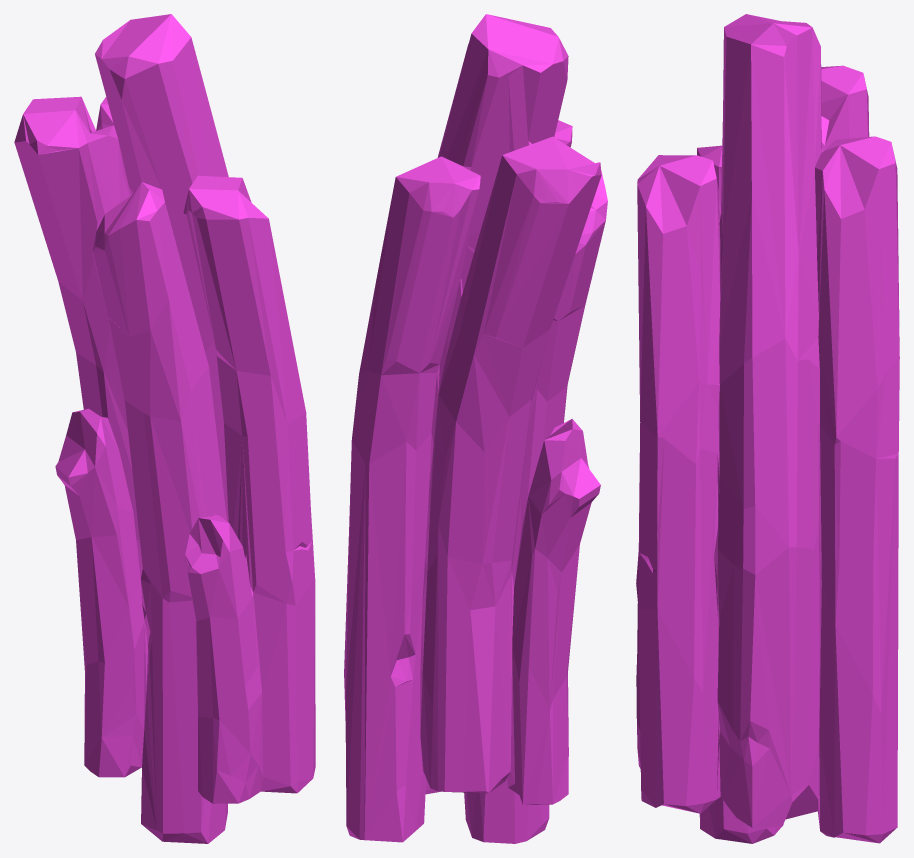
The model's file is SM_Rock_Bazalt_C_Fantasy.fbx.
The picture shows the model from 3 angles, left to right: view 1: azimuth 30°, elevation 25°; view 2: azimuth 150°, elevation 25°; view 3: azimuth 270°, elevation 25°; orthographic projection. The views are drawn at different scales.
Parts seen in each view (by area): view 1: SM_Rock_Bazalt_C_Fantasy; view 2: SM_Rock_Bazalt_C_Fantasy; view 3: SM_Rock_Bazalt_C_Fantasy.
Part boxes in pixels (<box>): SM_Rock_Bazalt_C_Fantasy: <box>14,14,315,843</box>; SM_Rock_Bazalt_C_Fantasy: <box>344,14,607,843</box>; SM_Rock_Bazalt_C_Fantasy: <box>636,14,899,843</box>.
Bounding box in the file's own units: 1.34 × 4.5 × 1.33.
